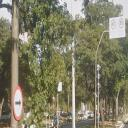speed_limit_50: (118, 18, 124, 28)
speed_limit_60: (110, 19, 116, 29)
speed_limit_70: (20, 31, 26, 41)
